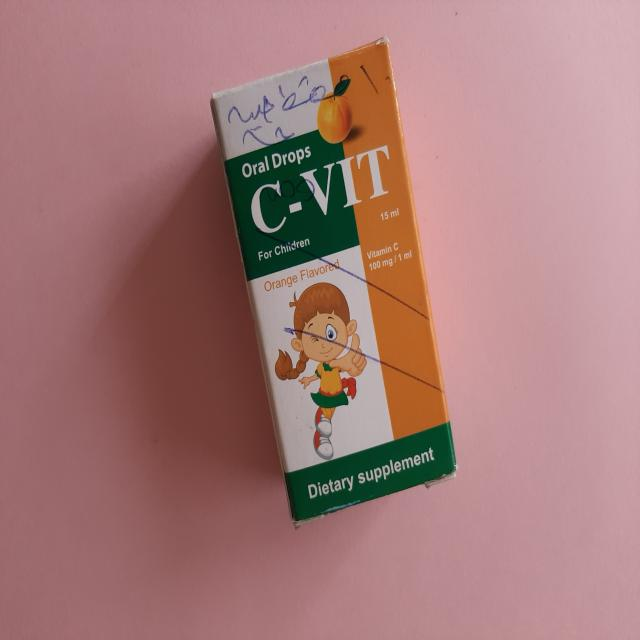C-VIT: (200, 31, 474, 532)
